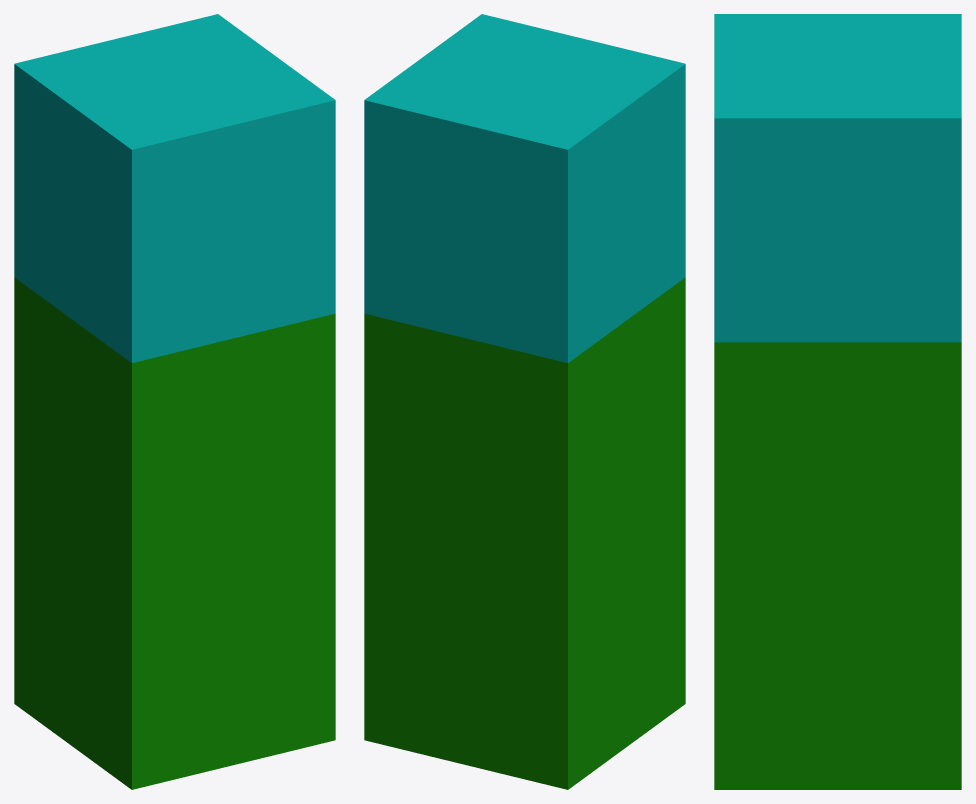
The model's file is (2) Cyan Flowers (Stage 3).obj.
3 renders of one model, left to right at view 1: azimuth 30°, elevation 25°; view 2: azimuth 150°, elevation 25°; view 3: azimuth 270°, elevation 25°, orthographic. The views are drawn at different scales.
Bounding box in the file's own units: 0.1 × 0.3 × 0.1.
1 material, 1 textured.
